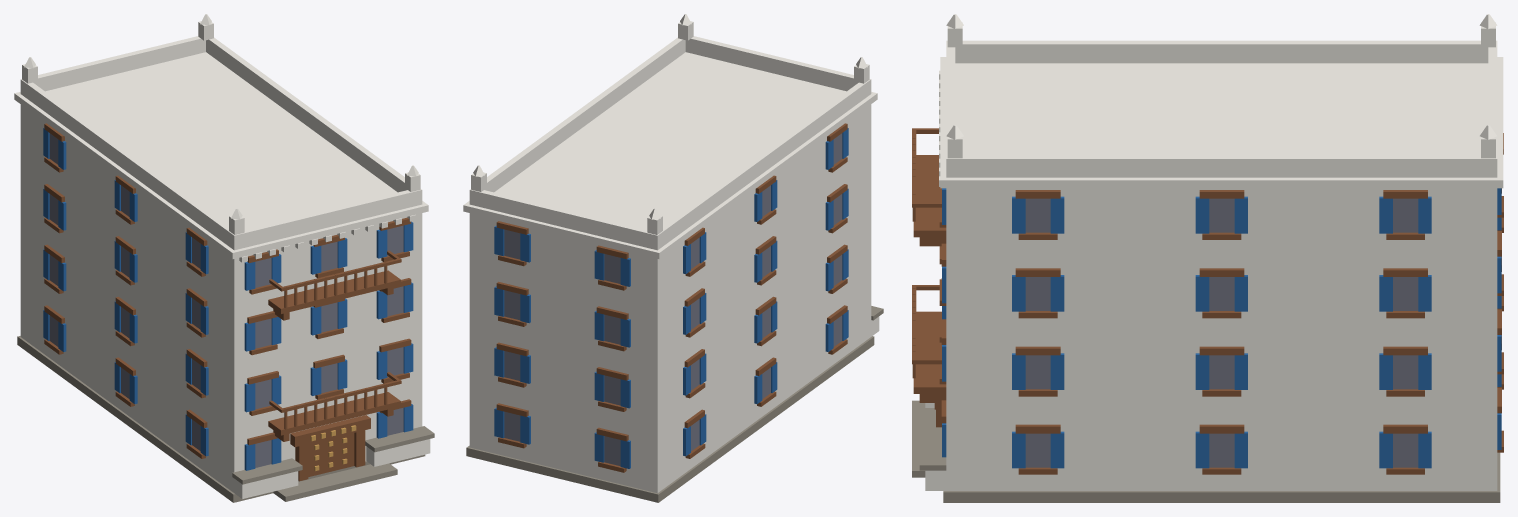
File: house-1x2-4f-swahili-a.glb
The picture shows the model from 3 angles, left to right: view 1: azimuth 30°, elevation 25°; view 2: azimuth 150°, elevation 25°; view 3: azimuth 270°, elevation 25°; orthographic projection. The views are drawn at different scales.
Parts seen in each view (by area): view 1: house-1x2-4f-swahili-a; view 2: house-1x2-4f-swahili-a; view 3: house-1x2-4f-swahili-a.
Boxes of the visible parts, x1=… form: house-1x2-4f-swahili-a: x1=14, y1=14, x2=434, y2=502; house-1x2-4f-swahili-a: x1=463, y1=14, x2=883, y2=502; house-1x2-4f-swahili-a: x1=912, y1=14, x2=1503, y2=502.
Size of the model in its own units: 0.984 by 1.38 by 1.99.
Materials: 1 (1 with a texture image).
